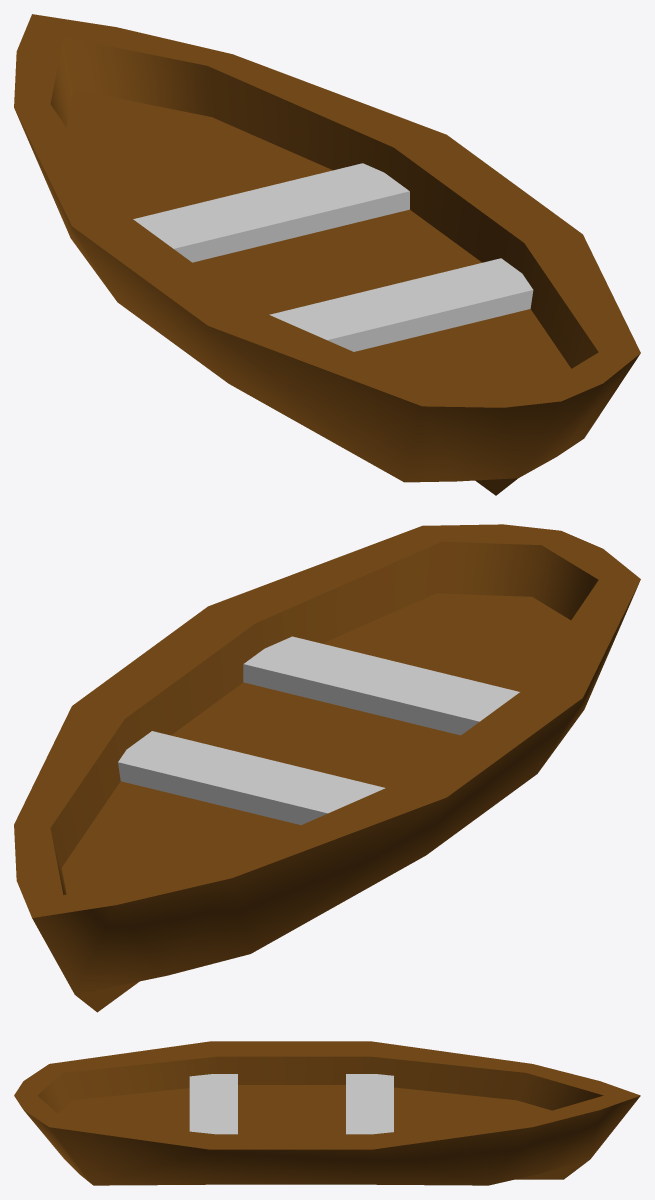
Rendered from boat.fbx.
The picture shows the model from 3 angles, top to bottom: view 1: azimuth 30°, elevation 25°; view 2: azimuth 150°, elevation 25°; view 3: azimuth 270°, elevation 25°; orthographic projection. The views are drawn at different scales.
Visible parts, largest first — view 1: Cube; view 2: Cube; view 3: Cube.
Boxes of the visible parts, bbox=[...] form: Cube: bbox=[14, 14, 640, 495]; Cube: bbox=[14, 524, 640, 1012]; Cube: bbox=[14, 1041, 640, 1185].
Bounding box in the file's own units: 343 × 124 × 838.
